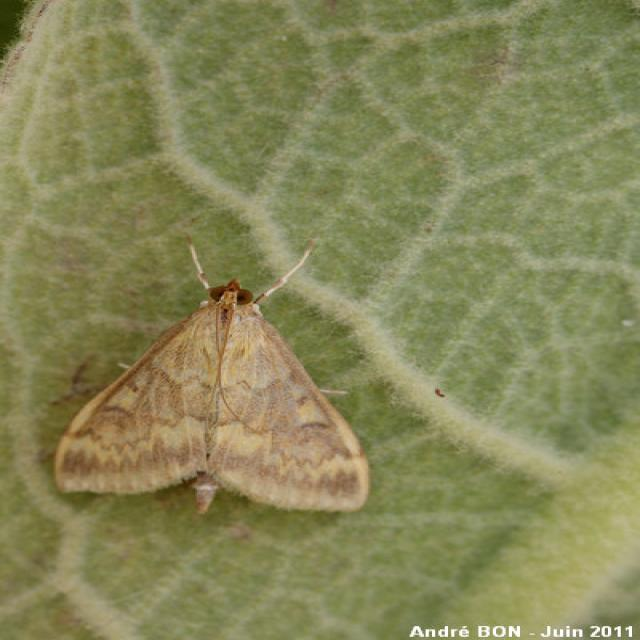cornborer-Adult-: (51, 216, 421, 535)
